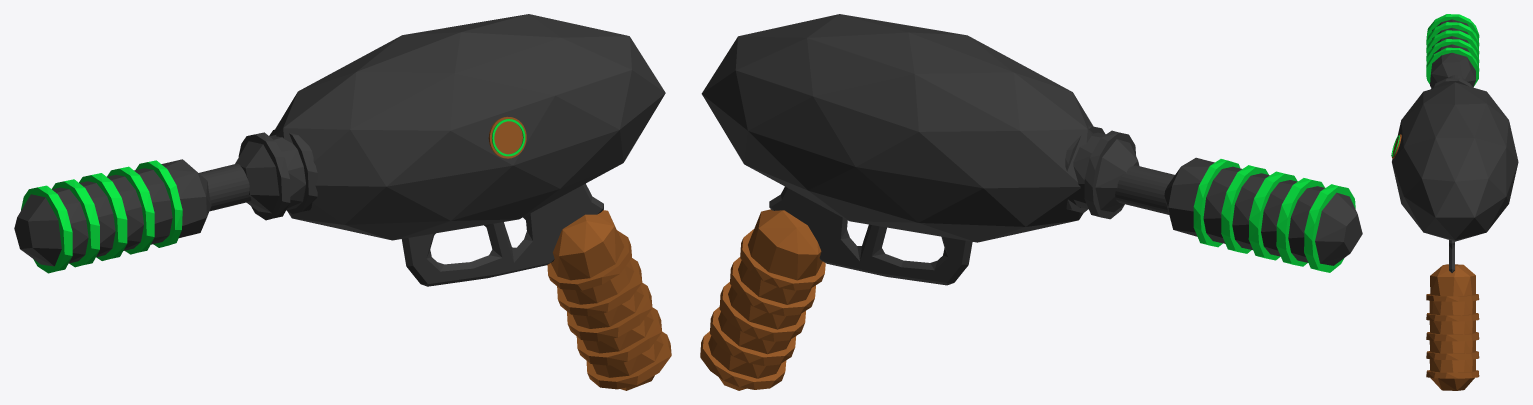
The model's file is AlienGun.fbx.
3 views of the same model, side by side, from view 1: azimuth 30°, elevation 25°; view 2: azimuth 150°, elevation 25°; view 3: azimuth 270°, elevation 25° (orthographic). The views are drawn at different scales.
Visible parts, largest first — view 1: Cylinder.003; view 2: Cylinder.003; view 3: Cylinder.003.
Part boxes in pixels (x1,y1,x2,y2): Cylinder.003: [14, 14, 671, 390]; Cylinder.003: [700, 14, 1362, 390]; Cylinder.003: [1391, 14, 1518, 390].
Bounding box in the file's own units: 116 × 67.82 × 32.85.
